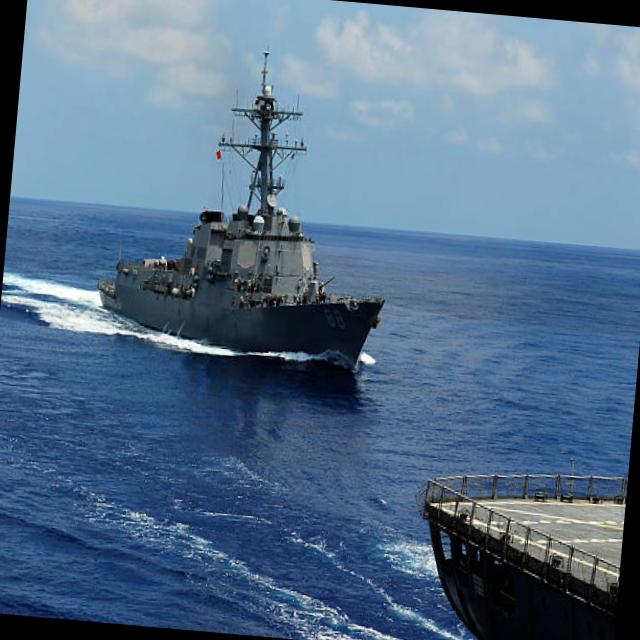Military: (95, 52, 384, 372), (421, 474, 627, 640)
